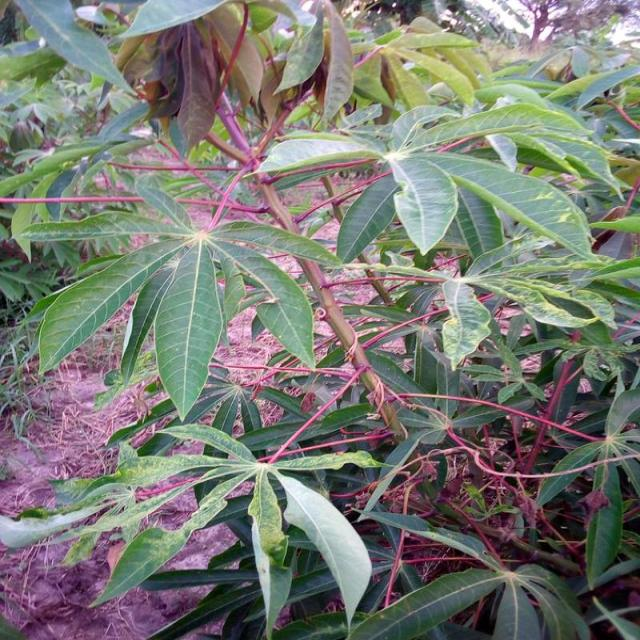Mosaico: (75, 413, 347, 617), (337, 233, 640, 370), (133, 0, 223, 165)
